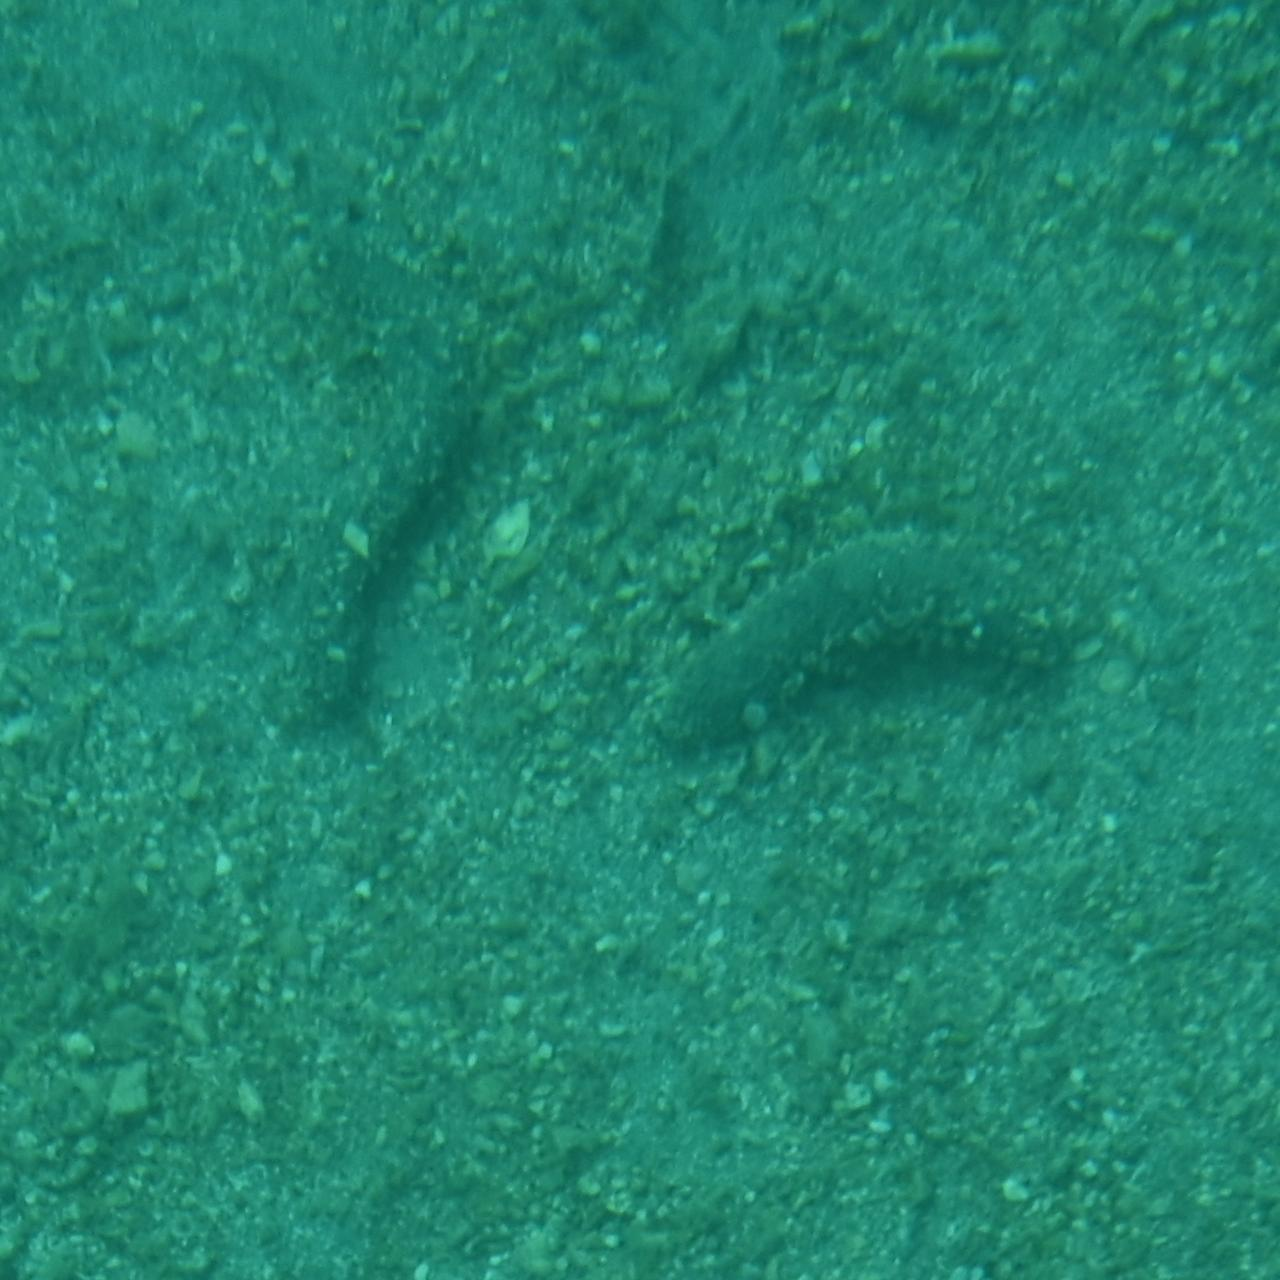Holothuria tubulosa: (647, 545, 1101, 755), (284, 341, 529, 708)
